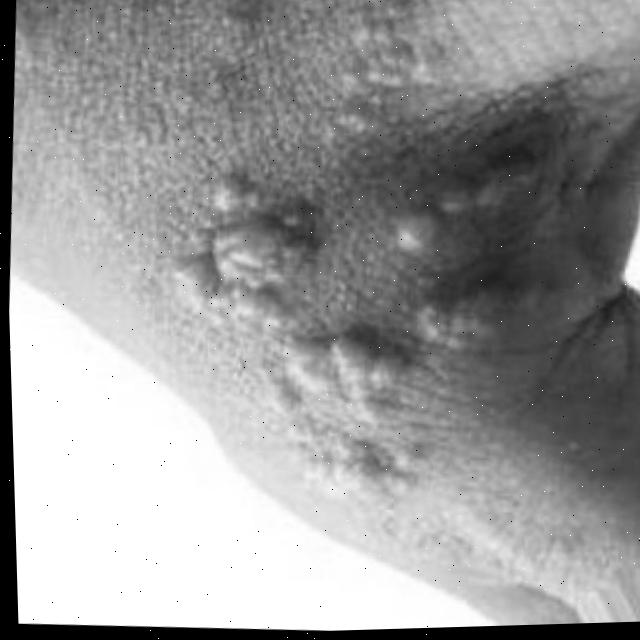Shingles: (157, 0, 564, 505)
